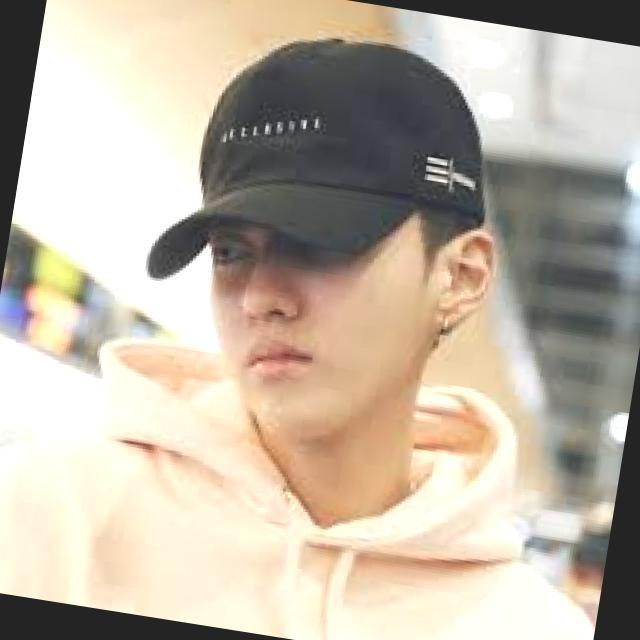cap: (117, 0, 530, 332)
